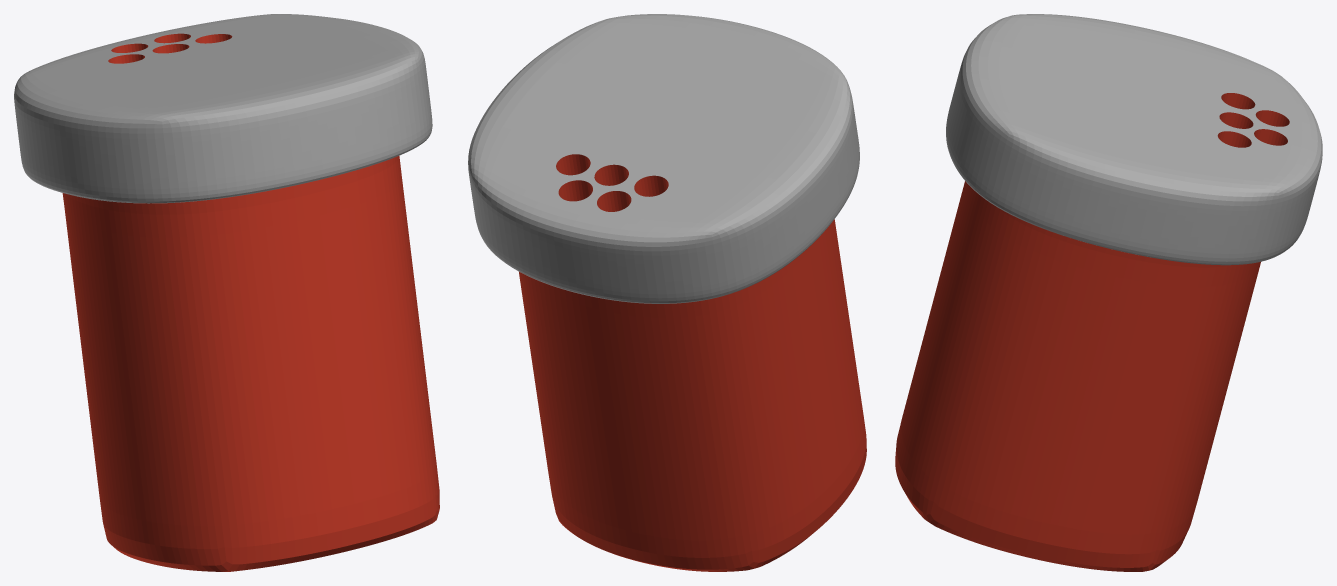
File: feeder.fbx
The picture shows the model from 3 angles, left to right: view 1: azimuth 30°, elevation 25°; view 2: azimuth 150°, elevation 25°; view 3: azimuth 270°, elevation 25°; orthographic projection. The views are drawn at different scales.
Parts seen in each view (by area): view 1: feeder; view 2: feeder; view 3: feeder.
Boxes of the visible parts, box(x1,y1,x2,y2) form: feeder: box(14, 14, 439, 571); feeder: box(468, 14, 866, 571); feeder: box(895, 14, 1322, 571).
Size of the model in its own units: 285 by 392 by 327.
